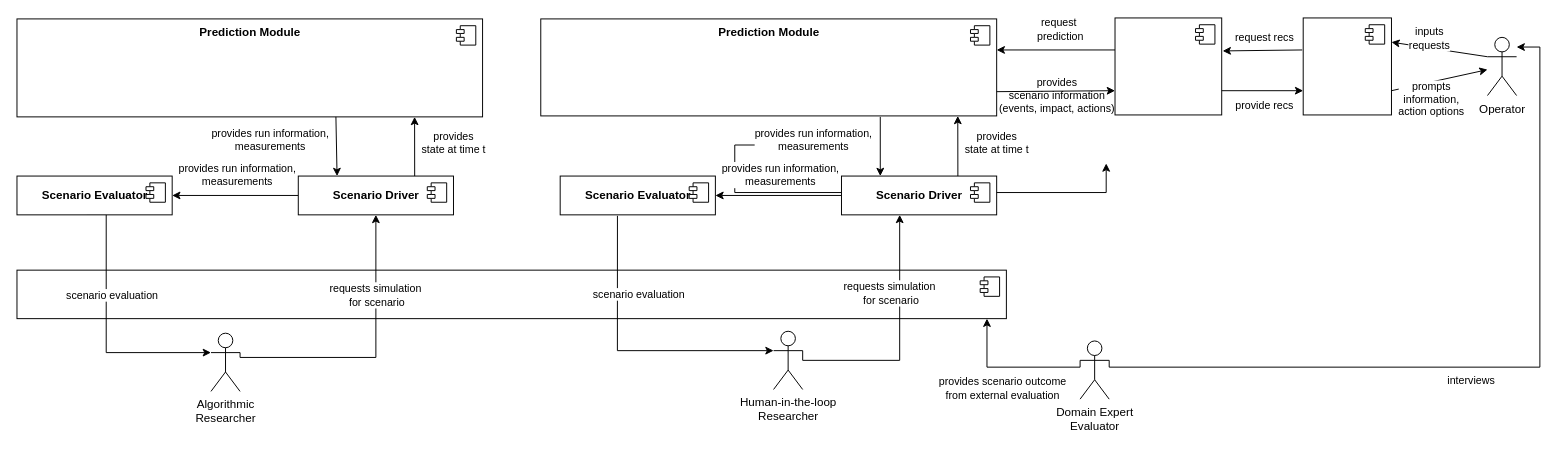
Some shapes in this 1565 by 451 pixel diagram are drawn without their labels. The centre of each missing label's shape, as x and y in pixels:
"FA Benchmark Web+Backend" belongs at point (511, 294).
"Human- Machine- Interaction Module" belongs at point (1346, 66).
"Recommendation Module" belongs at point (1168, 66).
